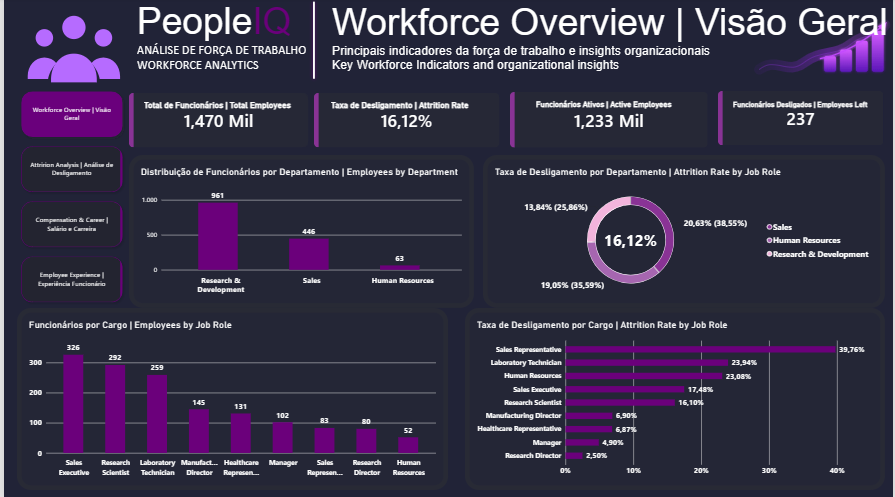

Layout of this report page (visuals, bound fields, positions):
{"tool":"powerbi","page":{"name":"Workforce Overview | Visão Geral ","canvas":[1920,1080],"ordinal":0},"visuals":[{"type":"cardVisual","title":"Total de Funcionários","fields":{"Data":["analytics vw_dashboard_workforce.Total Employee"]},"box":[270,205.2,387.5,117.5],"z":0},{"type":"cardVisual","title":"Taxa de desligamento","fields":{"Data":["analytics vw_dashboard_workforce.Attrition Rate"]},"box":[669.6,205.2,400,117.5],"z":1000},{"type":"cardVisual","title":"Funcionários Ativos","fields":{"Data":["analytics vw_dashboard_workforce.Attrition Employees"]},"box":[1093,203,427.5,120],"z":2000},{"type":"cardVisual","title":"Funcionários Desligados","fields":{"Data":["analytics vw_dashboard_workforce.Employees Left"]},"box":[1542.2,200.9,357.5,117.5],"z":3000},{"type":"columnChart","title":"Distribuição de Funcionários por Departamento | Employees by Department","fields":{"Category":["analytics vw_dashboard_workforce.department"],"Y":["Count(analytics vw_dashboard_workforce.employee_number)"]},"box":[270,340,745,330],"z":4000},{"type":"columnChart","title":"Funcionários por Cargo | Employees by Job Role","fields":{"Category":["analytics vw_dashboard_workforce.job_role"],"Y":["Count(analytics vw_dashboard_workforce.employee_number)"]},"box":[28.1,669.6,931,393.1],"z":5000},{"type":"donutChart","title":"Taxa de Desligamento por Departamento | Attrition Rate by Job Role","fields":{"Category":["analytics vw_dashboard_workforce.department"],"Y":["analytics vw_dashboard_workforce.Attrition Rate by Department"]},"box":[1035,340,867.5,330],"z":6000},{"type":"clusteredBarChart","title":"Taxa de Desligamento por Cargo | Attrition Rate by Job Role","fields":{"Category":["analytics vw_dashboard_workforce.job_role"],"Y":["analytics vw_dashboard_workforce.Attrition Rate by Department"]},"box":[995.8,669.6,907.2,393.1],"z":7000},{"type":"shape","title":"Total de Funcionários | Total Employees","box":[302.4,220.3,354.2,43.2],"z":9000},{"type":"shape","title":"Taxa de Desligamento | Attrition Rate","box":[706.3,220.3,403.9,43.2],"z":10000},{"type":"shape","title":"Funcionários Ativos | Active Employees","box":[1149.1,220.3,408.2,43.2],"z":11000},{"type":"shape","title":"Funcionários Desligados | Employees Left","box":[1574.6,220.3,345.6,38.9],"z":12000},{"type":"shape","box":[630,0,77.5,182.5],"z":12002},{"type":"image","box":[0,5,302.5,230],"z":12005},{"type":"image","box":[1620,42.5,300,142.5],"z":12007},{"type":"textbox","box":[287.5,5,410,197.5],"z":12008},{"type":"textbox","box":[708,6,1212,196],"z":12009},{"type":"pageNavigator","box":[27.8,192.2,237.8,477.8],"z":12010}]}

Visuals, with their boxes in screenshot pixels (x1, y1, x2, y2), scaled from the page's 1920x1080 canvas onto the 895x497 screenshot:
"Total de Funcionários" cardVisual: left=126, top=94, right=306, bottom=149
"Taxa de desligamento" cardVisual: left=312, top=94, right=499, bottom=149
"Funcionários Ativos" cardVisual: left=509, top=93, right=709, bottom=149
"Funcionários Desligados" cardVisual: left=719, top=92, right=886, bottom=147
"Distribuição de Funcionários por Departamento | Employees by Department" columnChart: left=126, top=156, right=473, bottom=308
"Funcionários por Cargo | Employees by Job Role" columnChart: left=13, top=308, right=447, bottom=489
"Taxa de Desligamento por Departamento | Attrition Rate by Job Role" donutChart: left=482, top=156, right=887, bottom=308
"Taxa de Desligamento por Cargo | Attrition Rate by Job Role" clusteredBarChart: left=464, top=308, right=887, bottom=489
"Total de Funcionários | Total Employees" shape: left=141, top=101, right=306, bottom=121
"Taxa de Desligamento | Attrition Rate" shape: left=329, top=101, right=518, bottom=121
"Funcionários Ativos | Active Employees" shape: left=536, top=101, right=726, bottom=121
"Funcionários Desligados | Employees Left" shape: left=734, top=101, right=894, bottom=119
shape: left=294, top=0, right=330, bottom=84
image: left=0, top=2, right=141, bottom=108
image: left=755, top=20, right=894, bottom=85
textbox: left=134, top=2, right=325, bottom=93
textbox: left=330, top=3, right=894, bottom=93
pageNavigator: left=13, top=88, right=124, bottom=308
